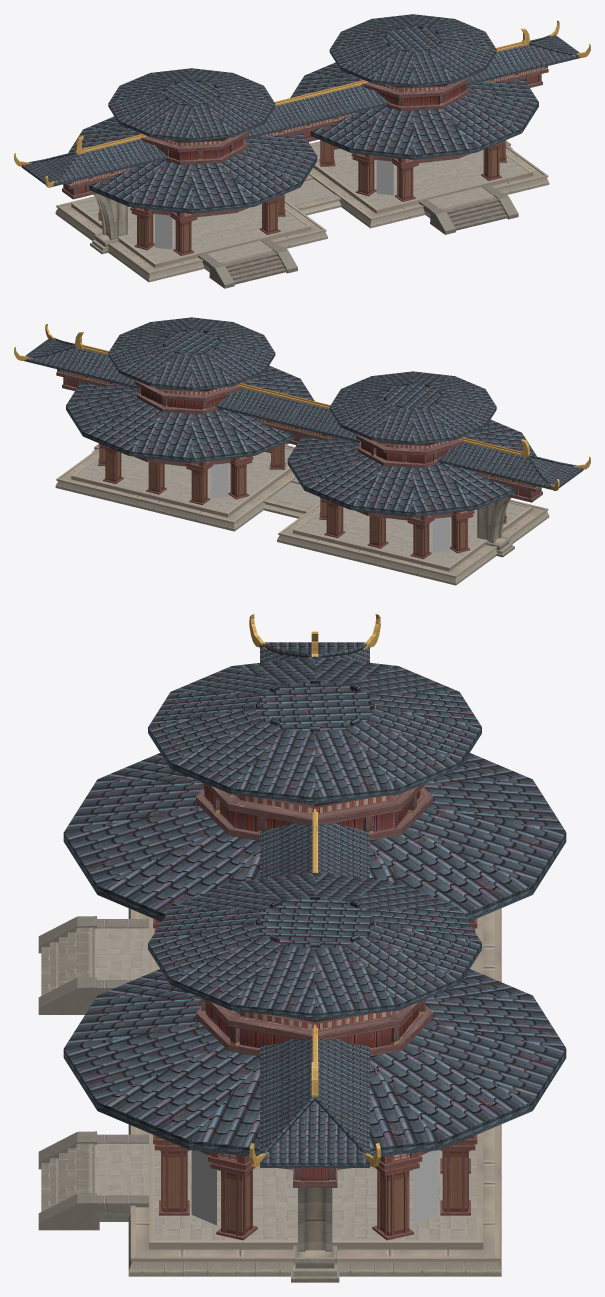
Rendered from mod_zlc_jianzhu021_xy.FBX.
3 renders of one model, top to bottom at view 1: azimuth 30°, elevation 25°; view 2: azimuth 150°, elevation 25°; view 3: azimuth 270°, elevation 25°, orthographic. The views are drawn at different scales.
Parts seen in each view (by area): view 1: mod_zlc_jianzhu021_xy; view 2: mod_zlc_jianzhu021_xy; view 3: mod_zlc_jianzhu021_xy.
Boxes of the visible parts, x1=… form: mod_zlc_jianzhu021_xy: x1=14, y1=14, x2=590, y2=288; mod_zlc_jianzhu021_xy: x1=14, y1=317, x2=590, y2=585; mod_zlc_jianzhu021_xy: x1=38, y1=614, x2=566, y2=1282.
Bounding box in the file's own units: 4744 × 1146 × 1987.
